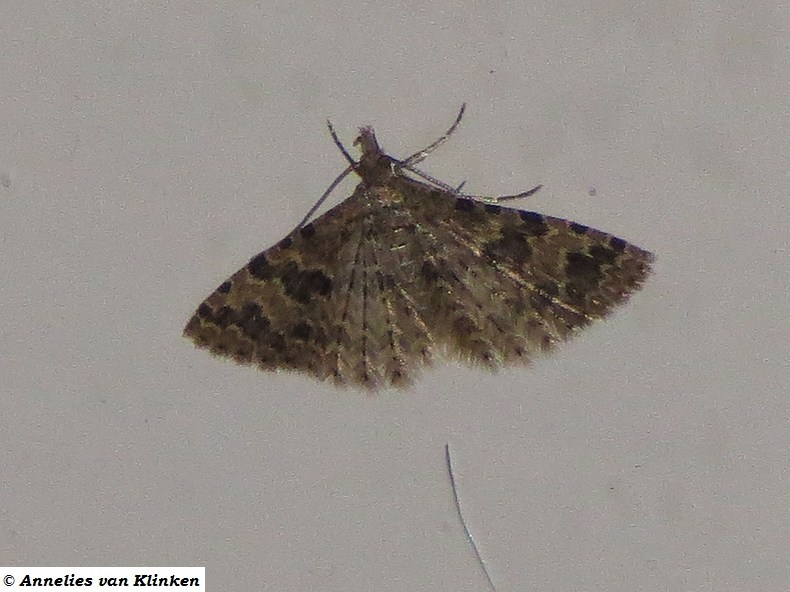Alucitidae: (170, 99, 661, 405)
moth: (168, 97, 659, 403)
